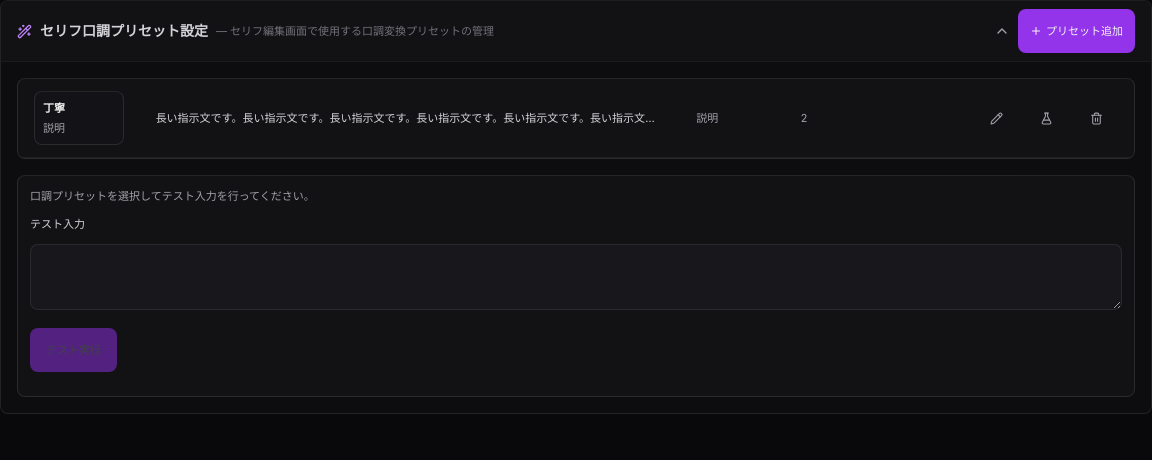
Test case: SpeechToneSection › retains the preset test panel and surfaces its real rewrite failure
Expected: the element "丁寧" is shown, x1=34 y1=91 x2=124 y2=145
Click the button named "丁寧 をテスト対象にする" at {"x": 1046, "y": 118}, box x1=1024 y1=96 x2=1068 y2=140
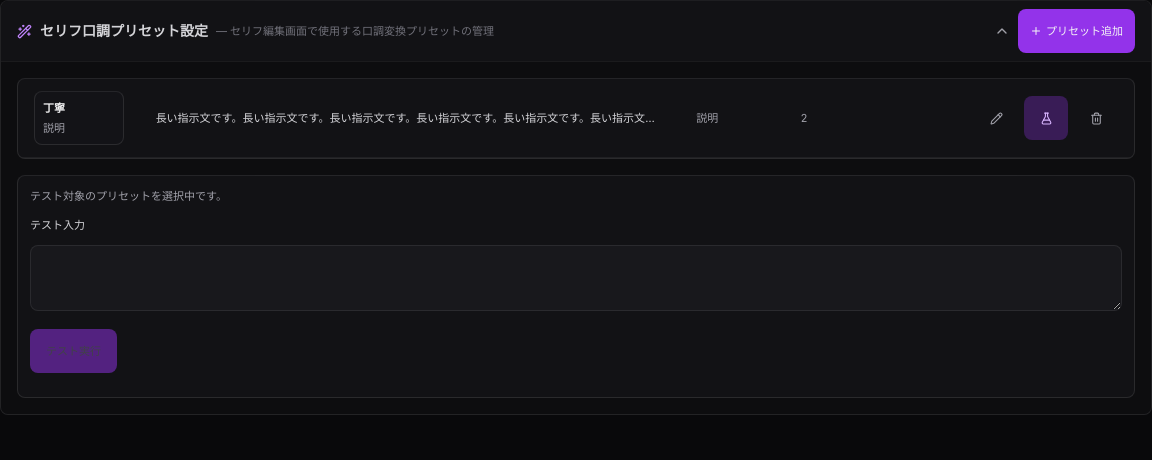
Type "入力を保持" into the text box labelled "テスト入力" at {"x": 576, "y": 278}, box x1=30 y1=244 x2=1122 y2=310
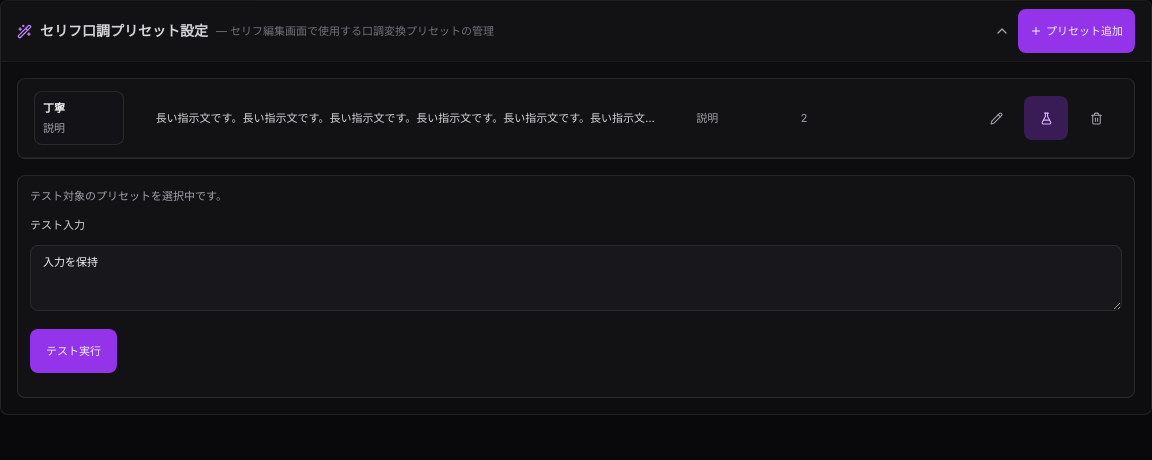
Click the button "テスト実行" at {"x": 74, "y": 350}, box x1=30 y1=328 x2=117 y2=372
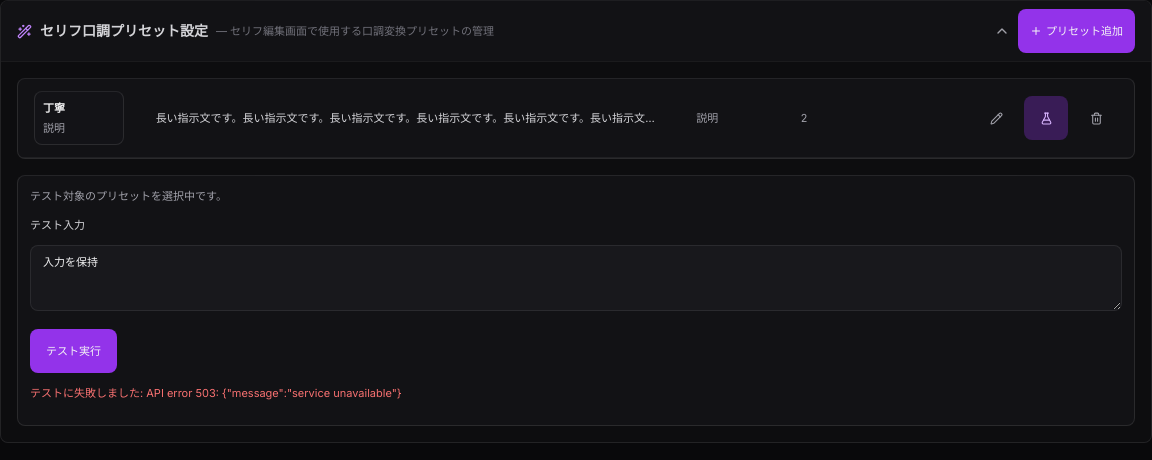
Expected: the message shows "service unavailable", x1=146 y1=386 x2=402 y2=400
